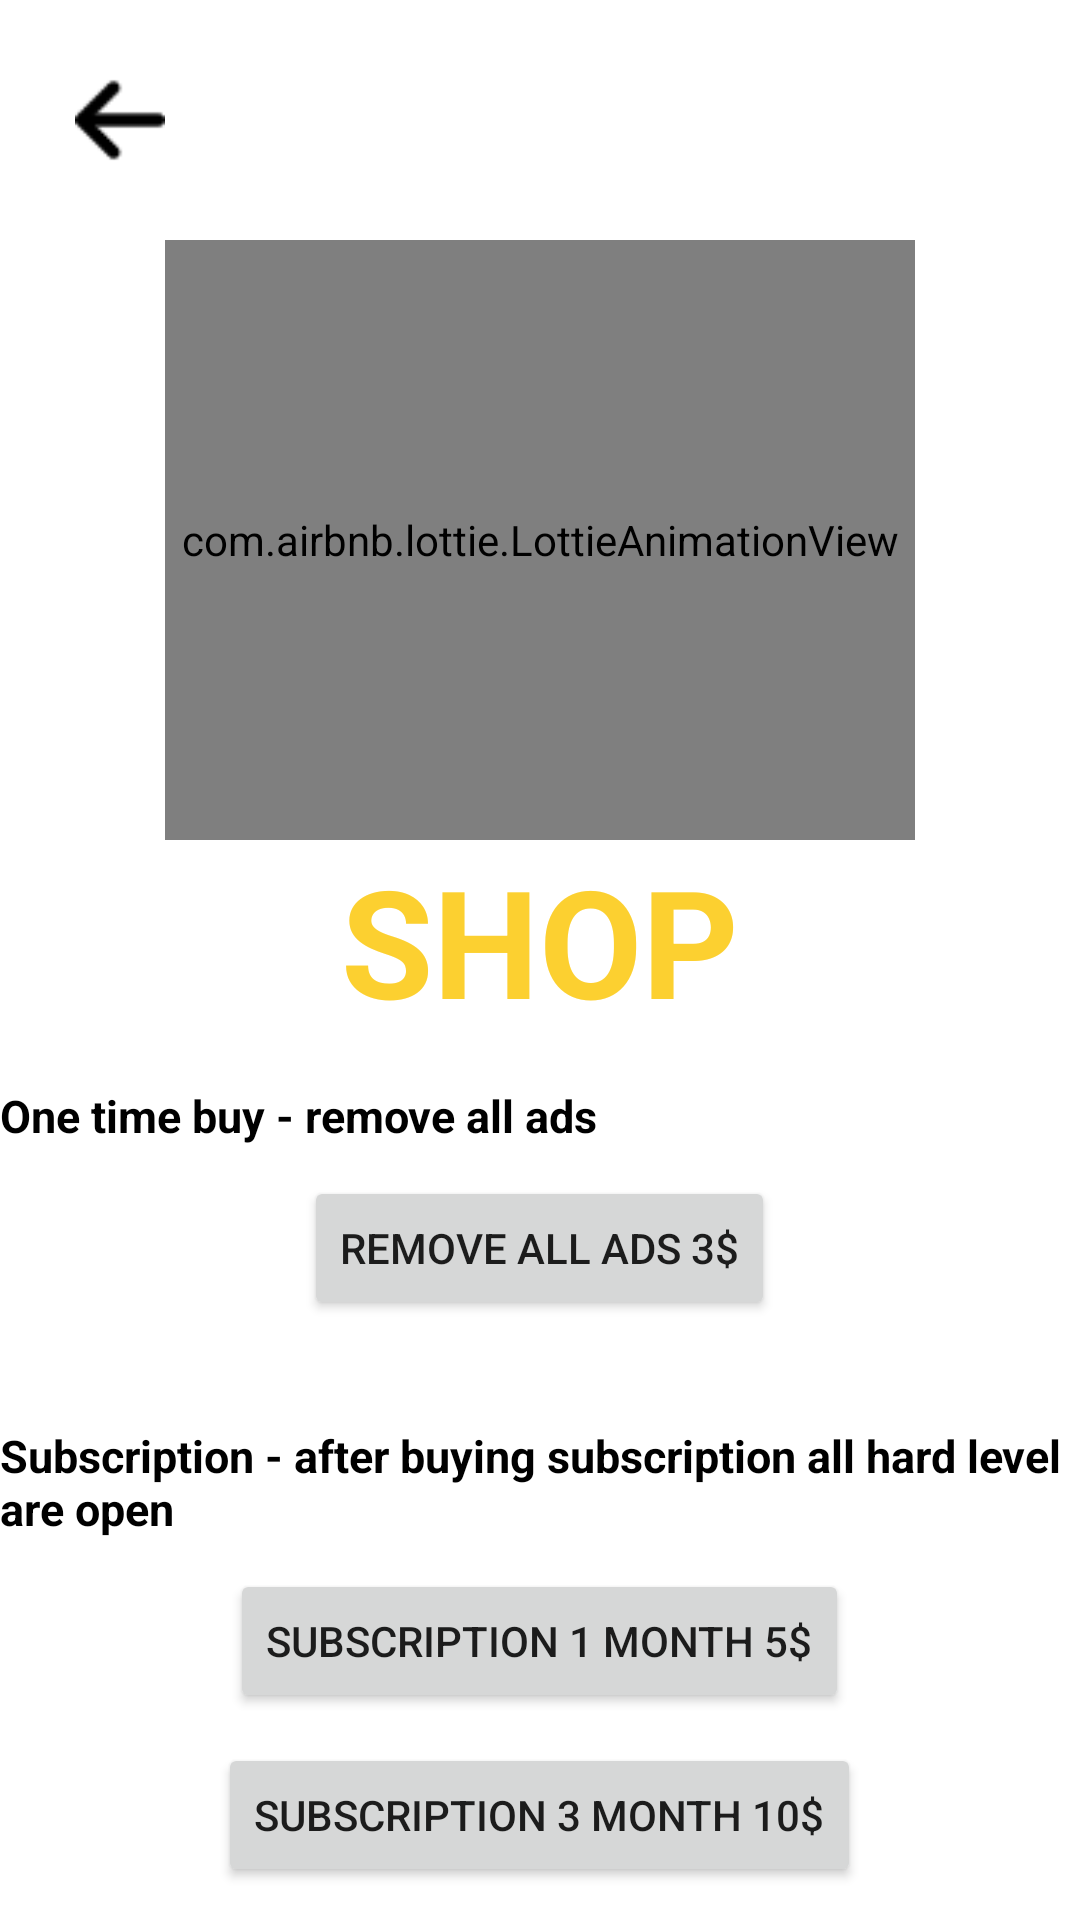

Named icons in this screenshot (1080x1920) and their centers, [x,y]:
arrow: [120,120]
